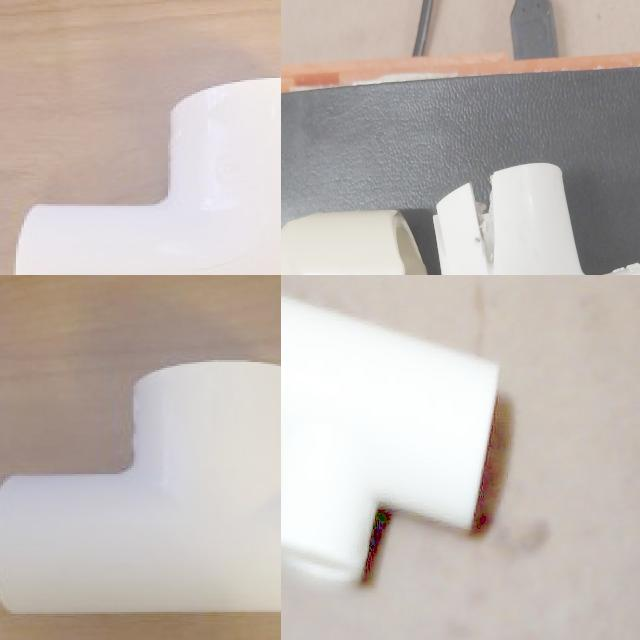L Joint: (281, 215, 415, 275)
T Joint: (0, 361, 281, 616), (281, 294, 501, 596)
